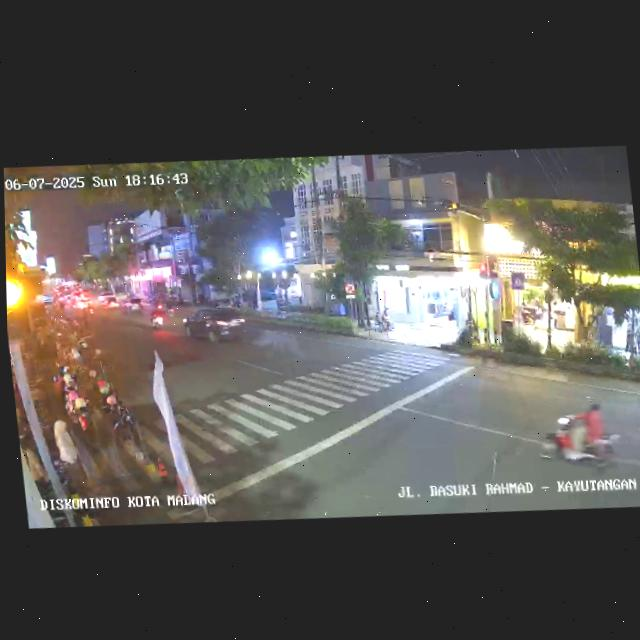car: (181, 302, 249, 349), (94, 291, 119, 310), (122, 294, 143, 313)
motorcycle: (539, 390, 623, 474), (148, 306, 165, 332), (164, 299, 176, 319)
person: (53, 413, 86, 512), (622, 321, 638, 355), (632, 322, 640, 355)
